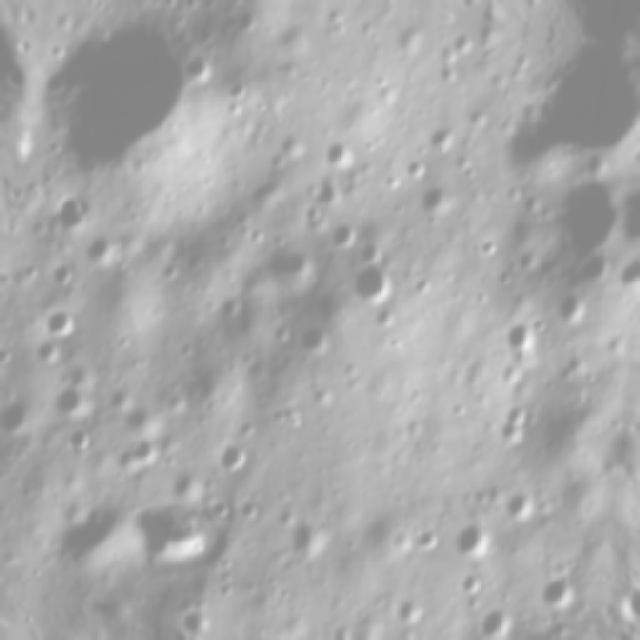crater: (48, 0, 194, 180), (494, 31, 640, 189), (128, 498, 212, 568), (558, 164, 622, 253), (346, 253, 399, 304), (453, 517, 501, 563), (40, 294, 82, 343), (0, 389, 38, 443), (615, 169, 640, 249), (570, 245, 612, 290), (475, 598, 519, 640), (51, 189, 94, 231), (496, 401, 532, 447), (298, 318, 339, 358), (539, 572, 579, 613), (289, 519, 325, 564), (85, 224, 121, 264), (419, 182, 456, 220), (423, 120, 463, 155), (328, 215, 364, 253), (185, 48, 220, 86), (51, 384, 89, 418), (322, 138, 361, 170), (392, 595, 430, 627), (501, 315, 532, 354), (212, 444, 252, 474), (617, 247, 640, 298), (230, 7, 270, 36), (557, 288, 589, 324), (455, 566, 491, 597), (63, 422, 91, 461), (371, 299, 403, 333), (33, 338, 67, 370), (51, 258, 80, 293), (471, 232, 503, 262), (506, 486, 534, 520), (20, 254, 49, 286), (126, 436, 159, 464), (206, 493, 237, 522), (238, 493, 267, 524), (402, 156, 436, 182), (358, 234, 384, 266), (313, 178, 344, 204), (228, 72, 254, 99), (302, 200, 327, 228), (272, 502, 298, 528), (413, 272, 438, 299), (217, 289, 241, 316), (157, 258, 181, 282), (225, 96, 247, 119)
